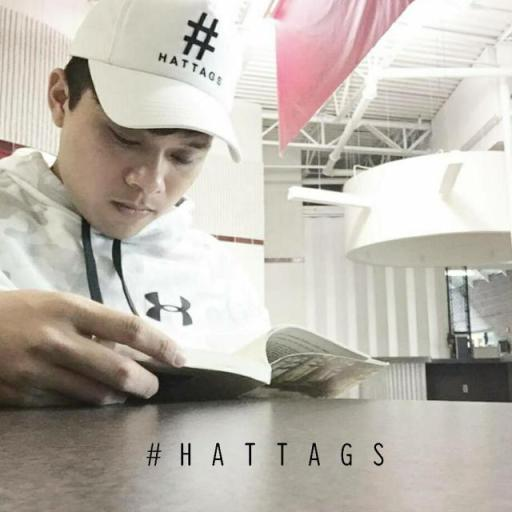Under Armour: (139, 289, 195, 327)
